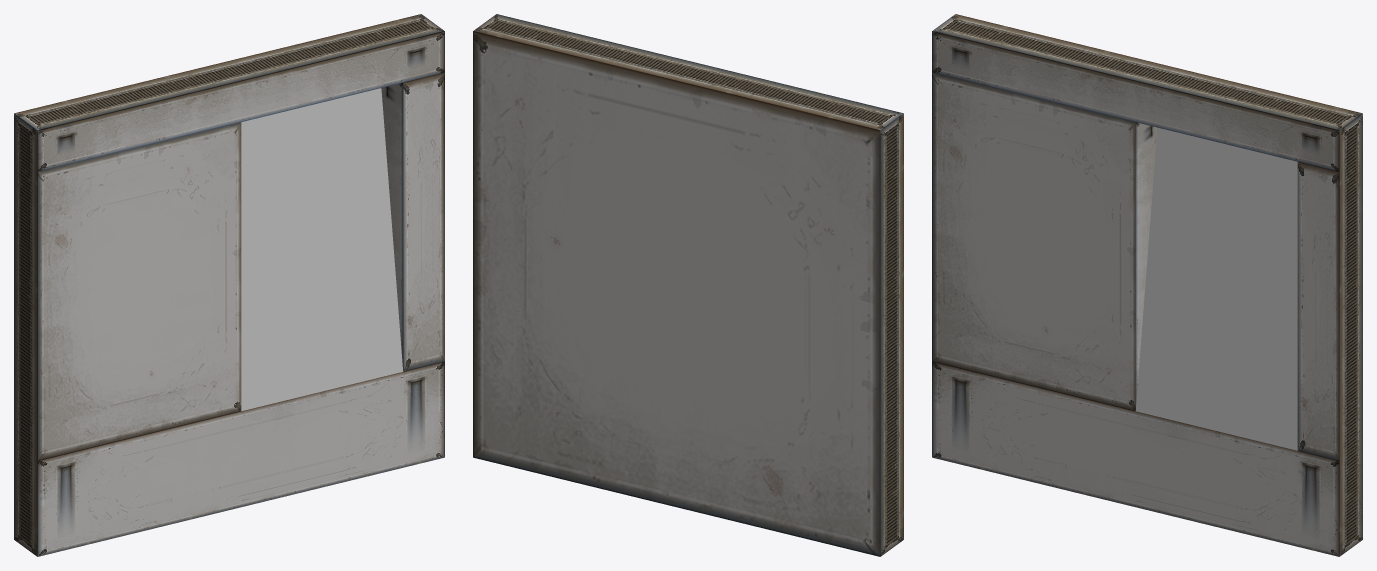
File: scifi_wall7_2.FBX
The picture shows the model from 3 angles, left to right: view 1: azimuth 30°, elevation 25°; view 2: azimuth 150°, elevation 25°; view 3: azimuth 330°, elevation 25°; orthographic projection.
Parts seen in each view (by area): view 1: Plane032; view 2: Plane032; view 3: Plane032.
Part boxes in pixels (x1,y1,x2,y2): Plane032: [14, 14, 444, 556]; Plane032: [473, 14, 903, 556]; Plane032: [932, 14, 1362, 556].
Size of the model in its own units: 254 by 254 by 25.4.
